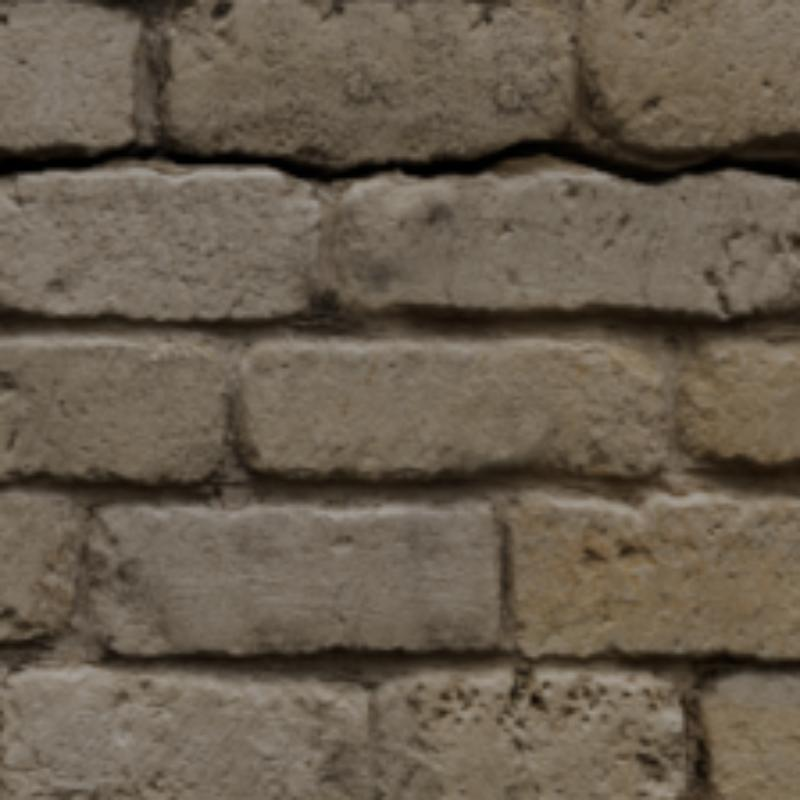pothole: (0, 136, 796, 182)
